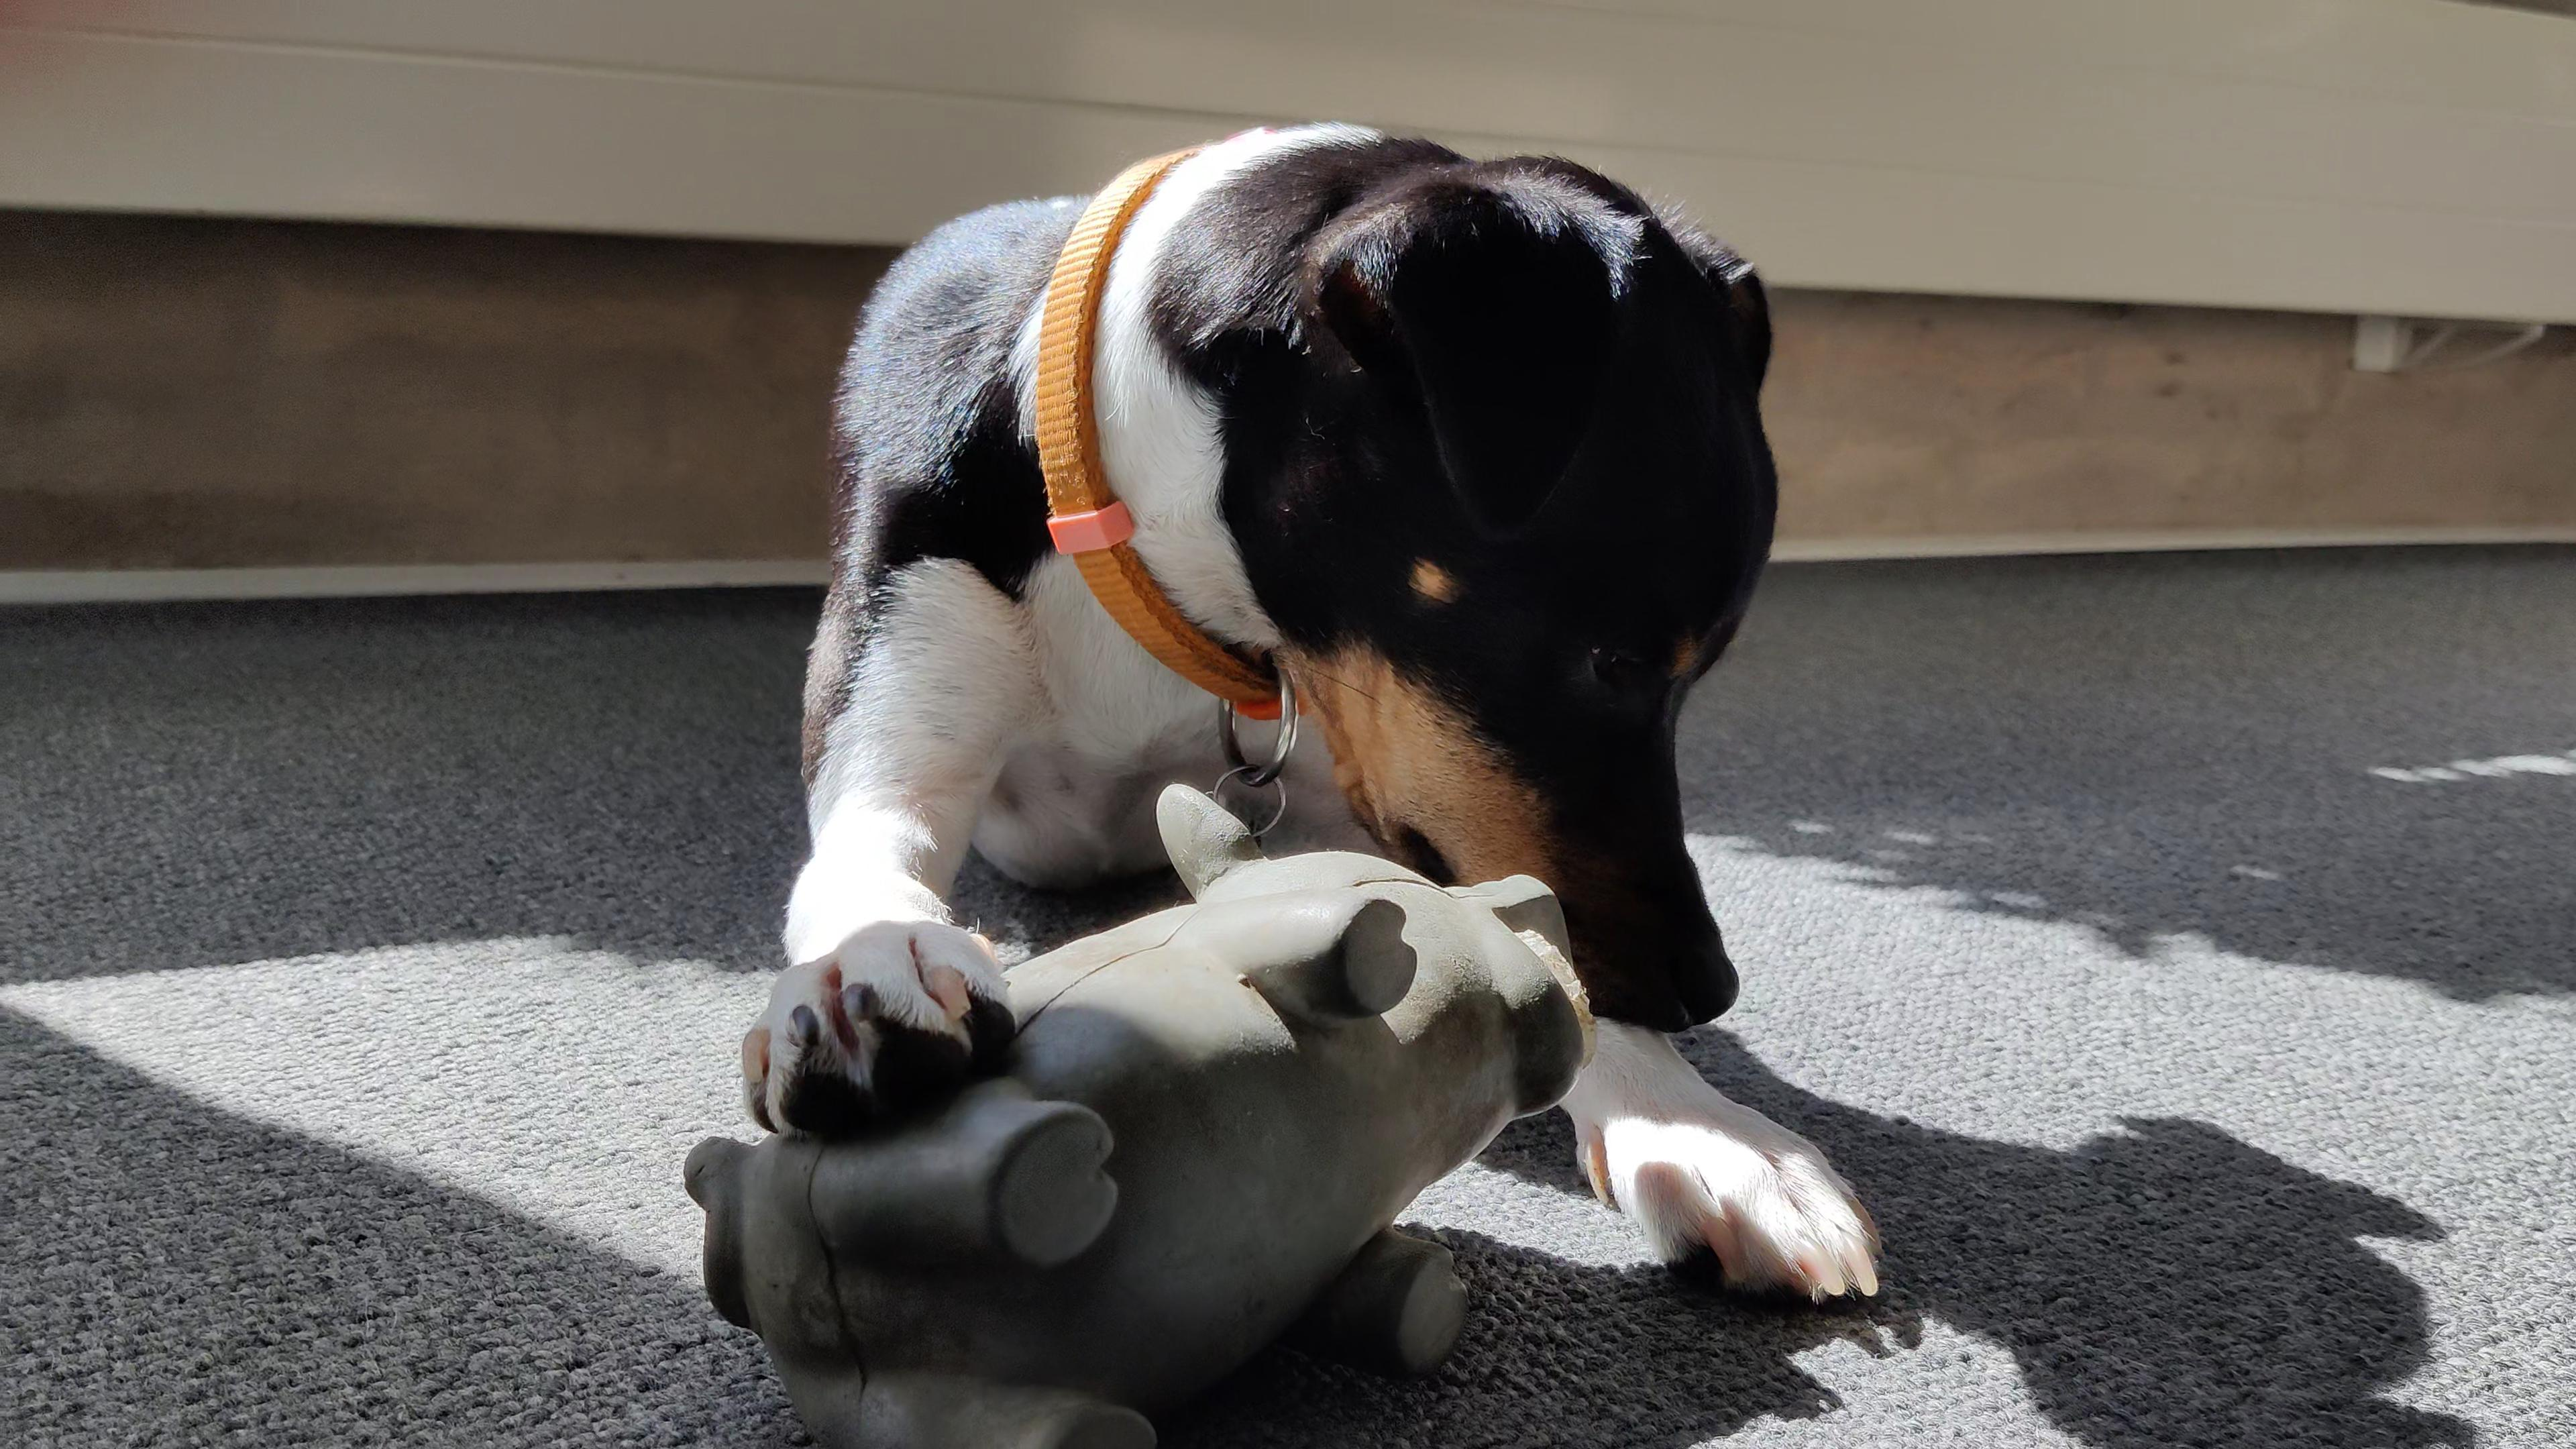Dog: (708, 78, 1911, 1316)
